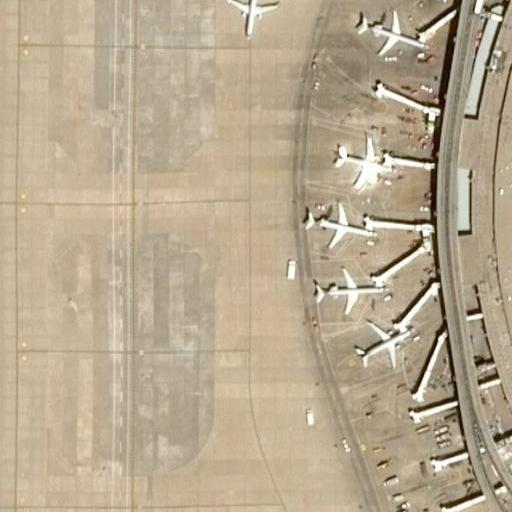Aircraft: (309, 266, 383, 317), (352, 310, 410, 374), (354, 3, 424, 56), (298, 198, 365, 248), (327, 134, 391, 183), (221, 0, 272, 39)
